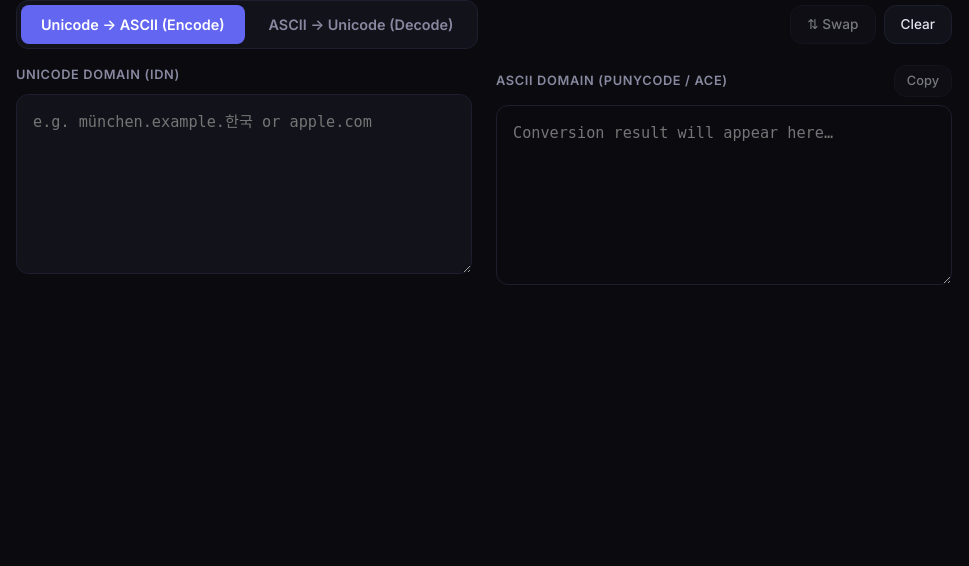
Test: PunycodeTool conversion › encodes Unicode domain to ASCII Punycode in real-time by default
In the text box labelled "Unicode Domain (IDN)": [244, 184] box [16, 94, 472, 274], type "münchen.example.com"
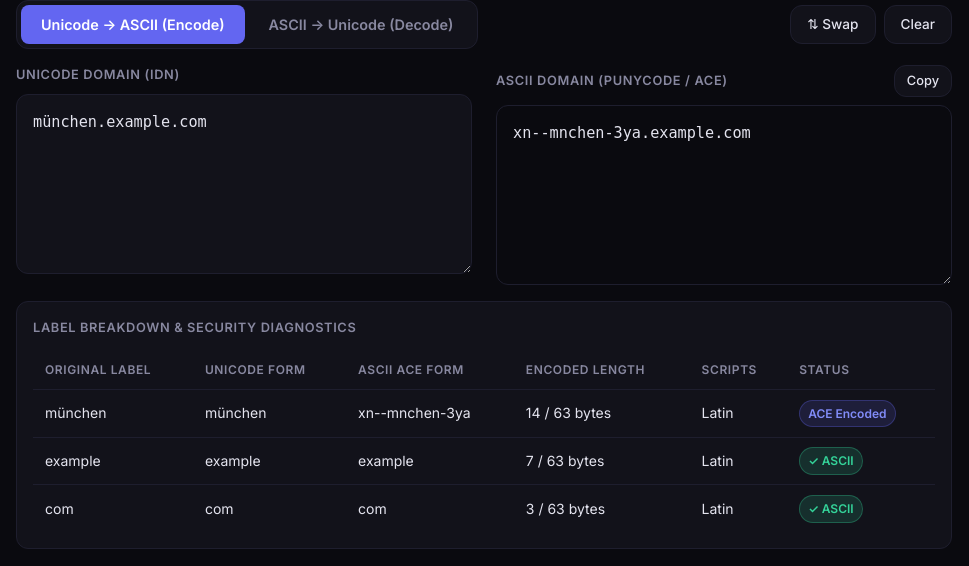
Now the text box labelled "ASCII Domain (Punycode / ACE)" holds "xn--mnchen-3ya.example.com", box [496, 105, 952, 285]
